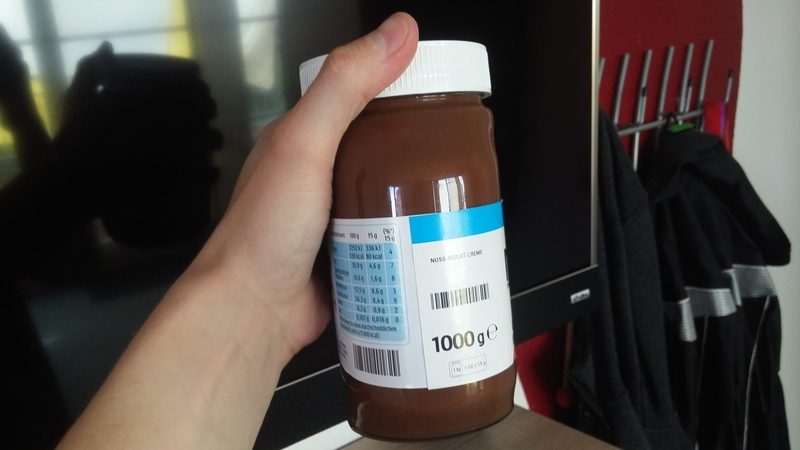nutella: (298, 39, 517, 438)
